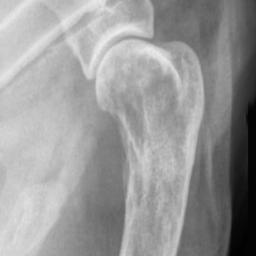cancer: (95, 39, 205, 256)
